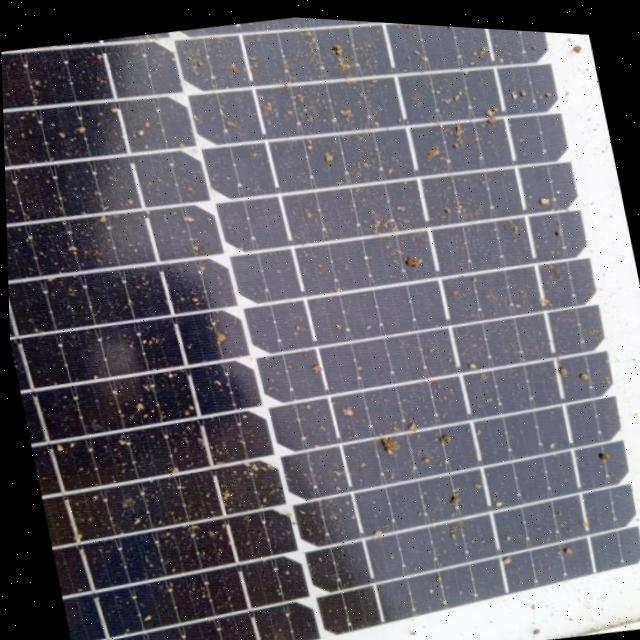Anomaly Solar Panel: (0, 0, 640, 640)
Surface Contaminant: (1, 14, 640, 640)
